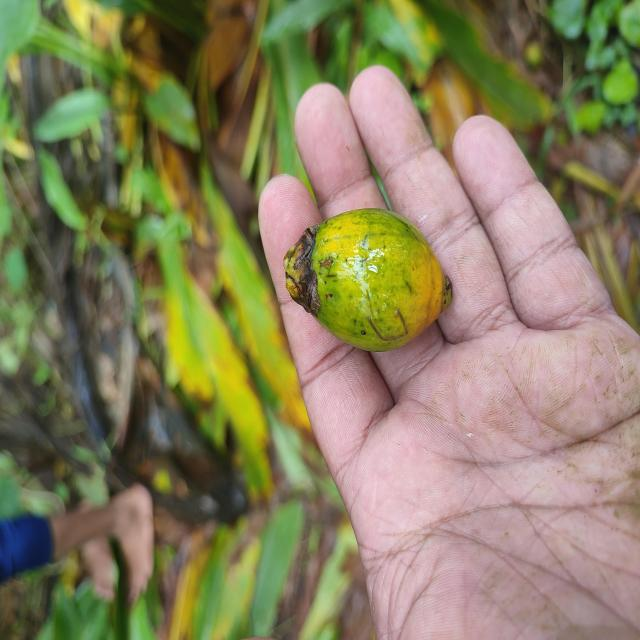damaged: (286, 209, 454, 354)
